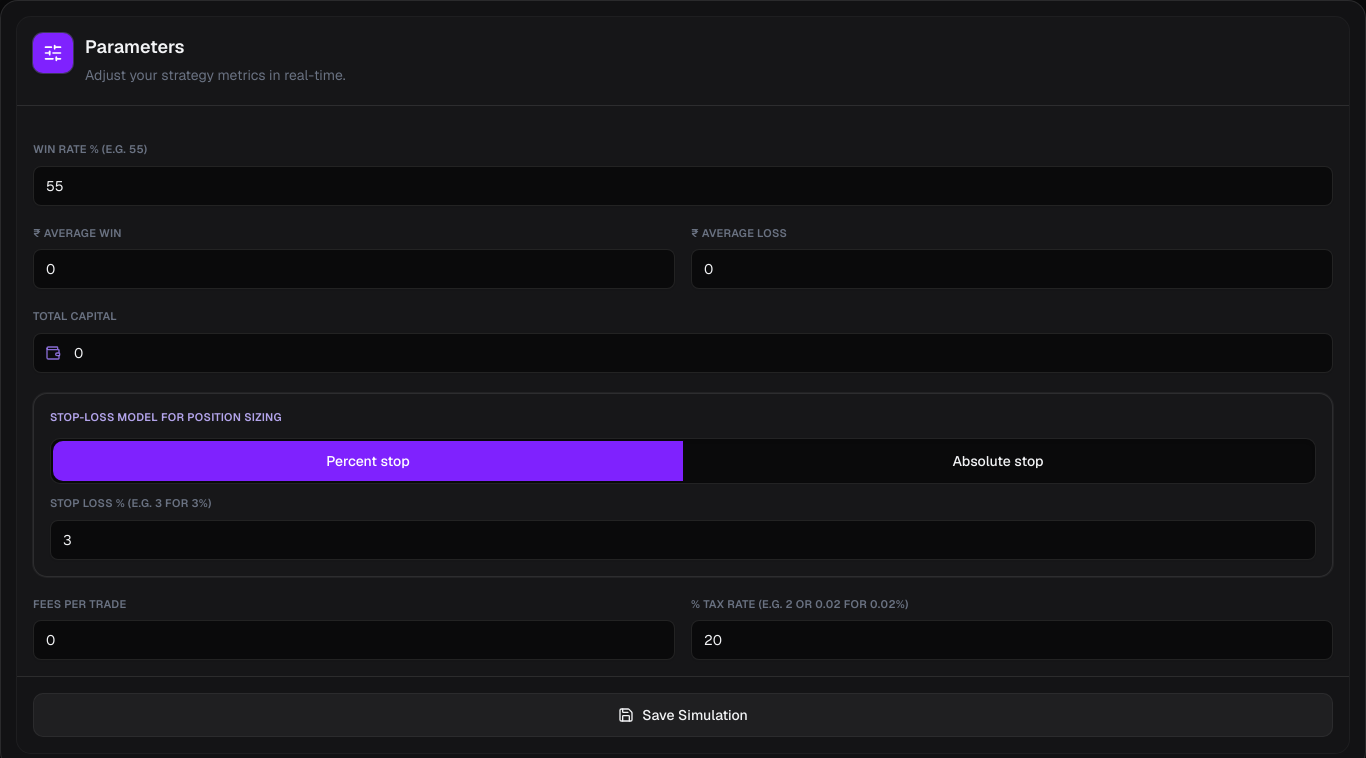
Test: ParametersCard › shows validation errors when win rate is out of range
Replace the text in the field with test id "input-win-rate" with "150" at (683, 186), box top-left (33, 166), bottom-right (1333, 206)
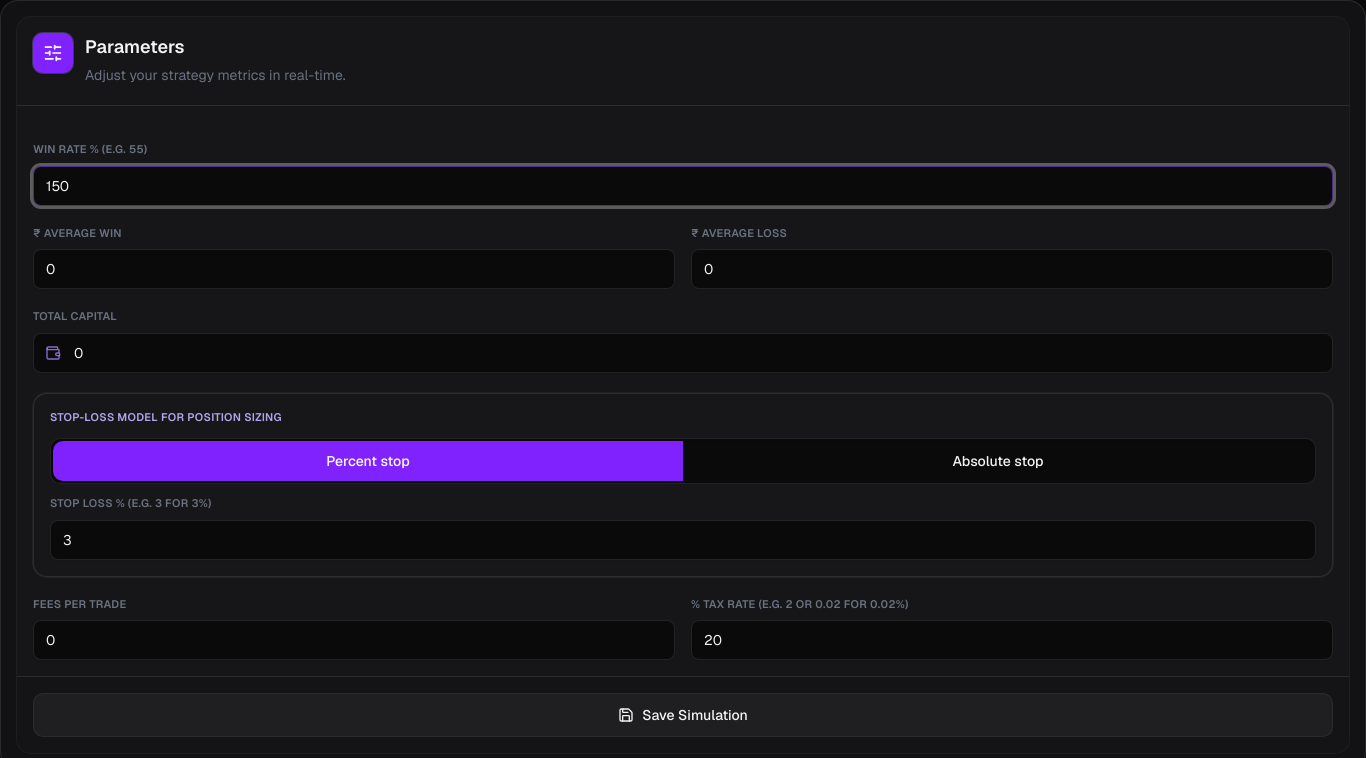
Click the button with test id "button-save-simulation" at (683, 715), box top-left (33, 693), bottom-right (1333, 737)
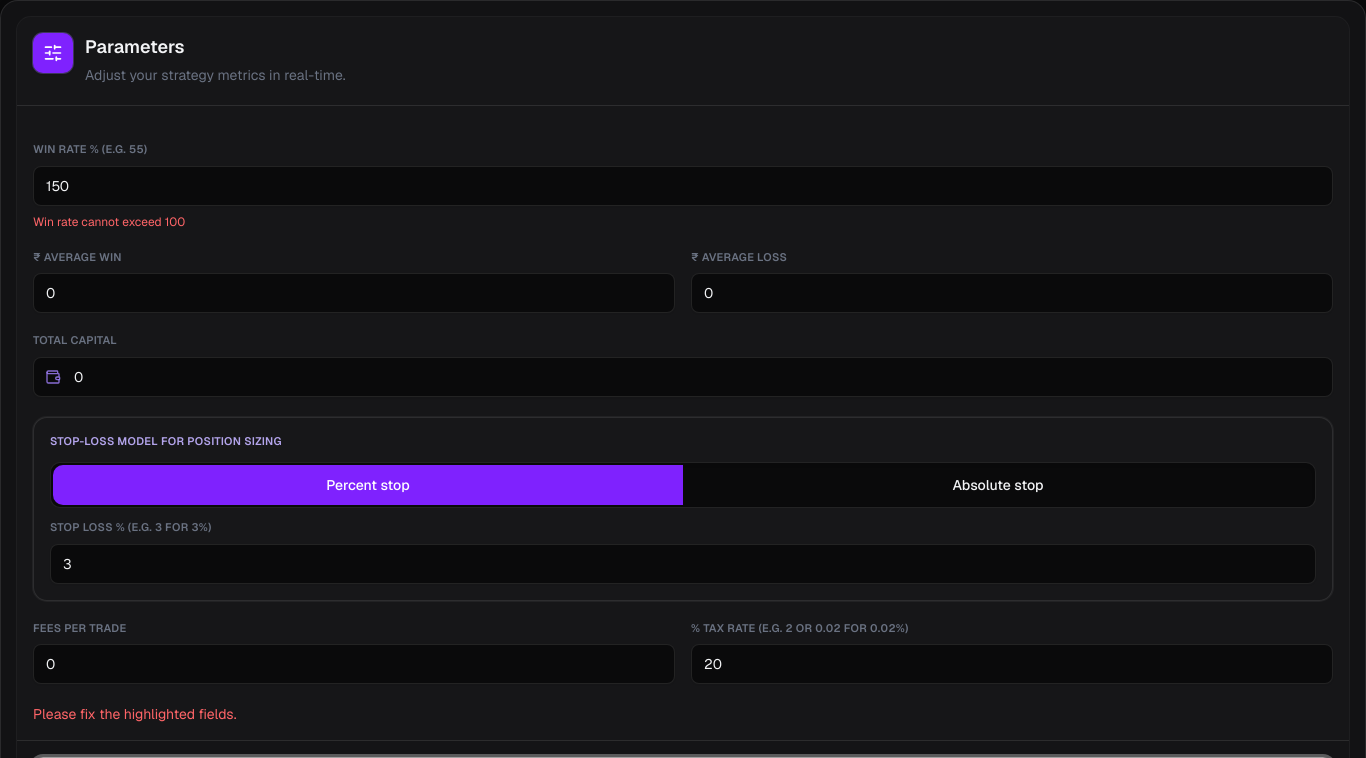
Expected: the text "Win rate cannot exceed 100" is shown, top-left (33, 214), bottom-right (185, 230)
